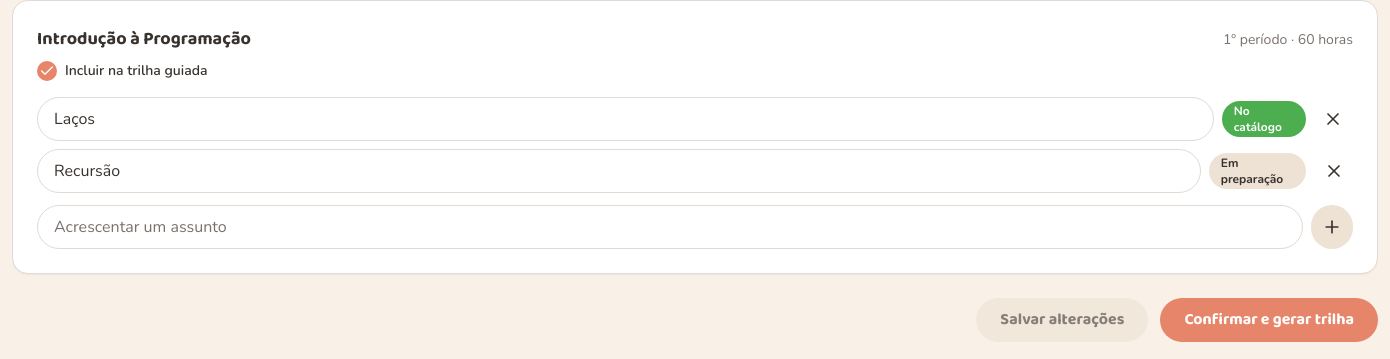
Test case: RevisaoAssuntos › sem nenhum assunto, não deixa confirmar e diz o motivo
Click the button named "Remover \"Laços\"" at (1333, 119), box top-left (1314, 97), bottom-right (1353, 141)
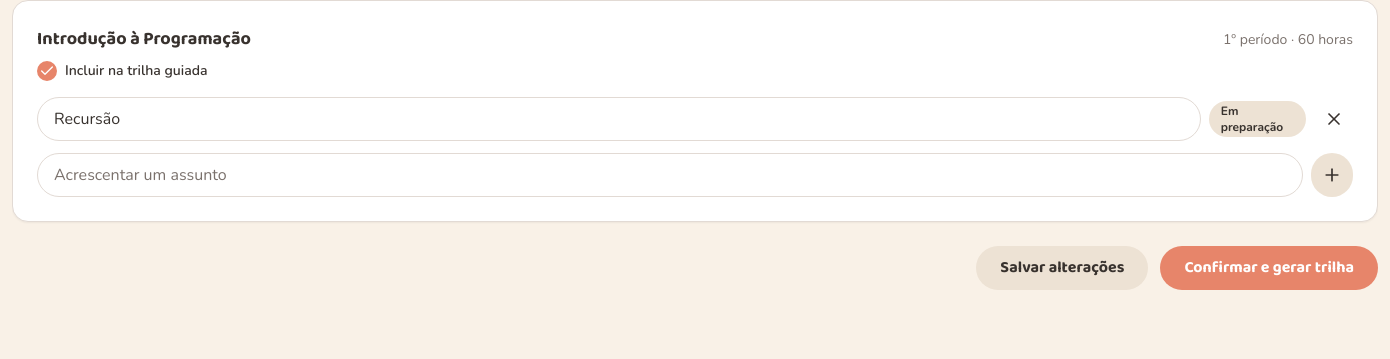
Click the button named "Remover \"Recursão\"" at (1334, 119), box top-left (1314, 97), bottom-right (1353, 141)
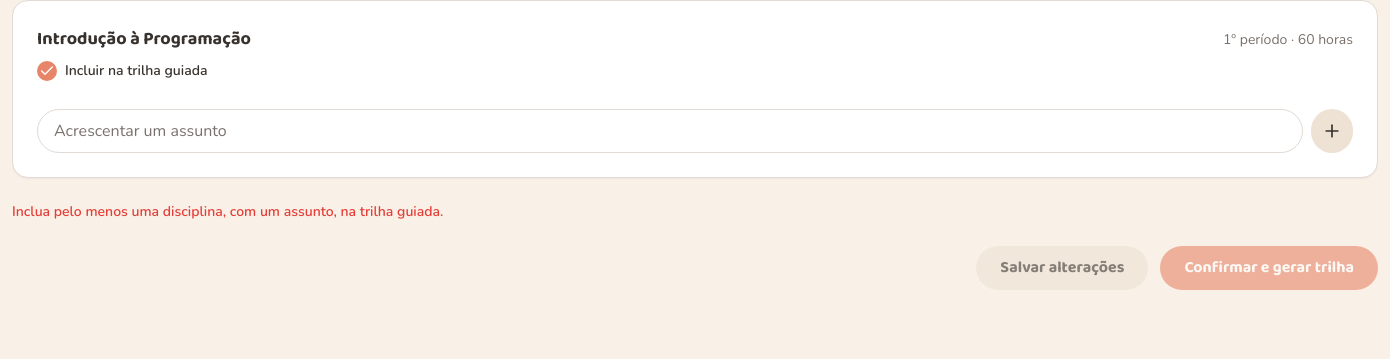
Result: the message shows "Inclua pelo menos uma disciplina" at top-left (12, 202), bottom-right (443, 221)
Result: the button "Confirmar e gerar trilha" is disabled at top-left (1160, 246), bottom-right (1378, 290)
